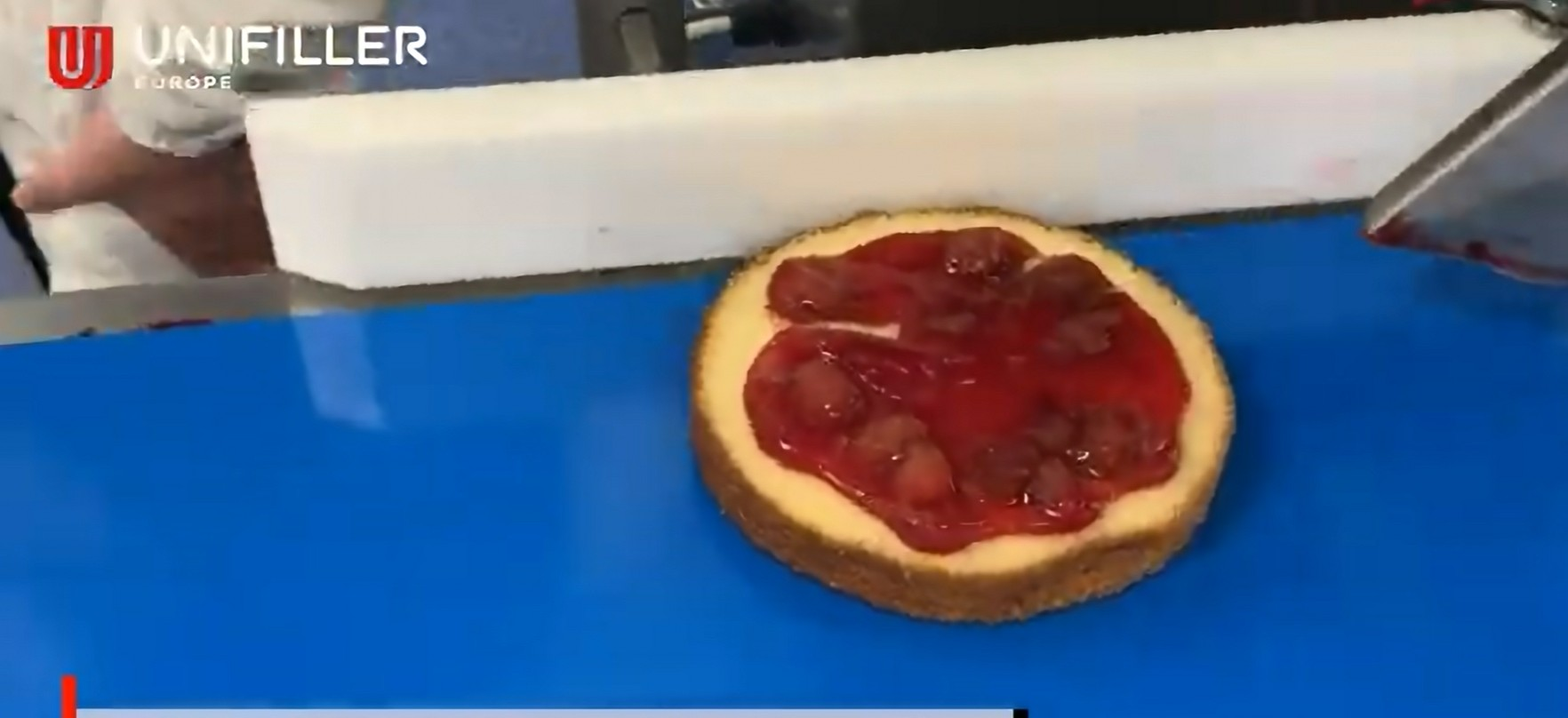Jam Coated: (694, 202, 1236, 611)
